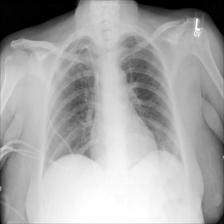normal: (36, 32, 190, 185)
